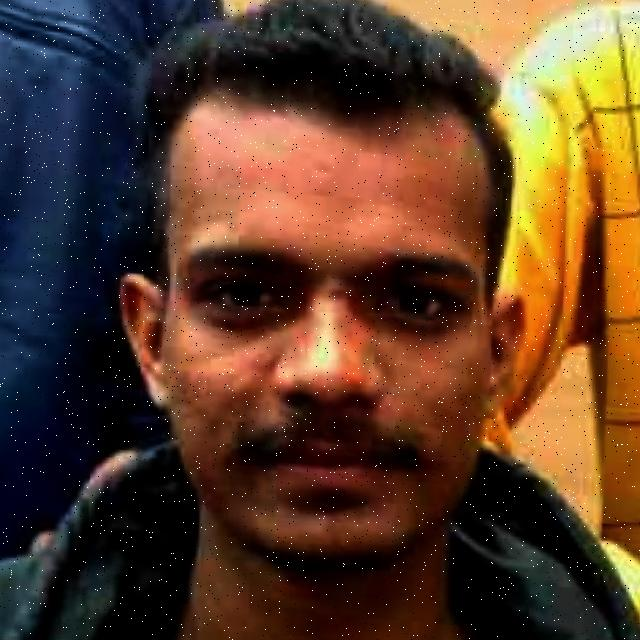puffy_eyes: (200, 305, 275, 327)
